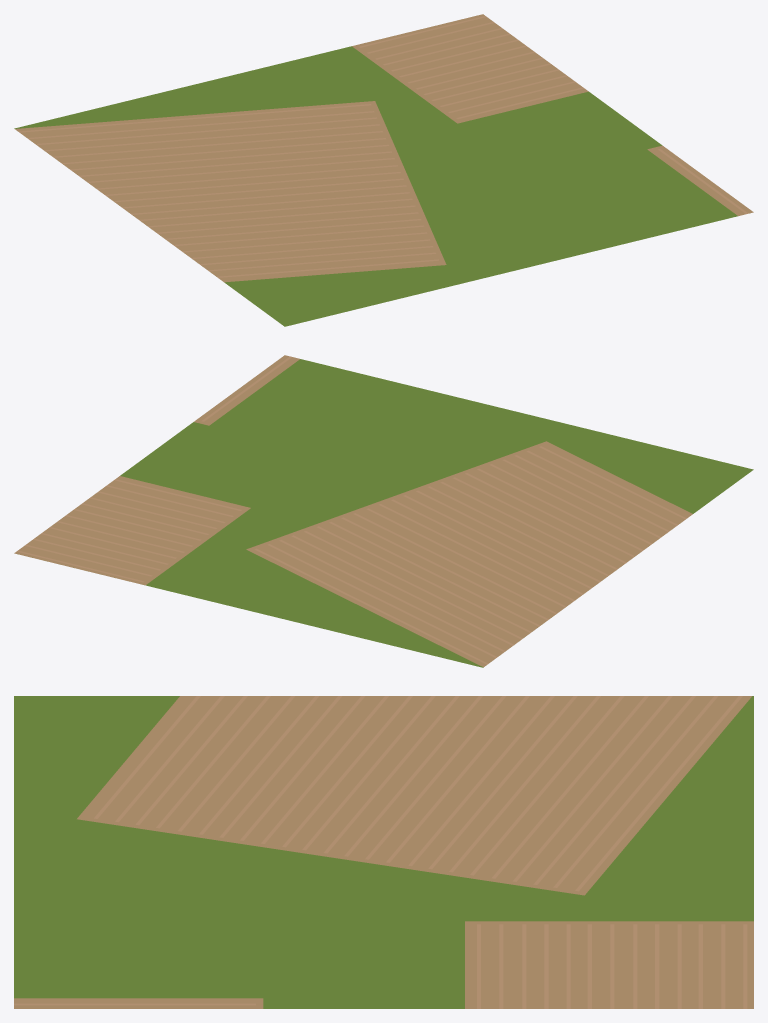
File: crossing-10-6.glb
The picture shows the model from 3 angles, top to bottom: view 1: azimuth 30°, elevation 25°; view 2: azimuth 150°, elevation 25°; view 3: azimuth 270°, elevation 25°; orthographic projection. The views are drawn at different scales.
Visible parts, largest first — view 1: crossing-10-6; view 2: crossing-10-6; view 3: crossing-10-6.
Boxes of the visible parts, bbox=[...] form: crossing-10-6: bbox=[14, 14, 753, 326]; crossing-10-6: bbox=[14, 355, 753, 667]; crossing-10-6: bbox=[14, 696, 753, 1008].
Bounding box in the file's own units: 100 × 0.0064 × 100.
